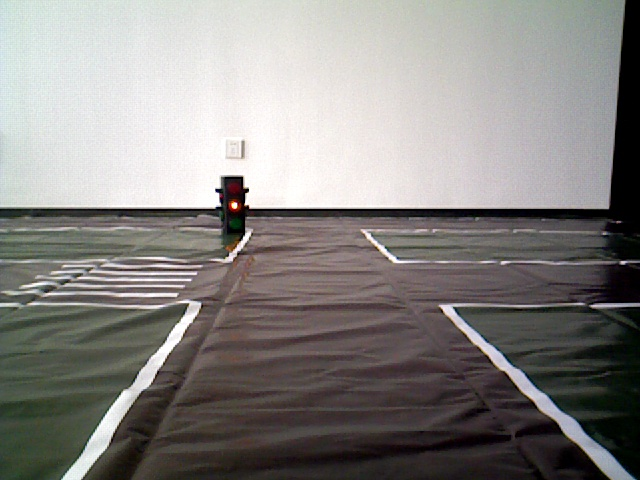yellow: (220, 172, 250, 235)
